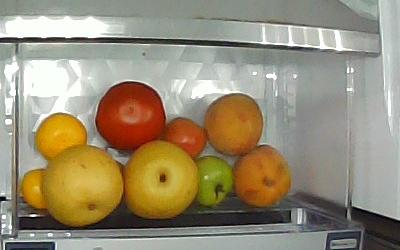peach: (234, 145, 294, 208), (206, 93, 264, 157)
pear: (42, 145, 124, 227), (125, 140, 199, 218)
tangerine: (35, 112, 88, 160), (21, 169, 51, 209)
tomato: (96, 81, 166, 151), (194, 156, 233, 207), (164, 117, 207, 156)
